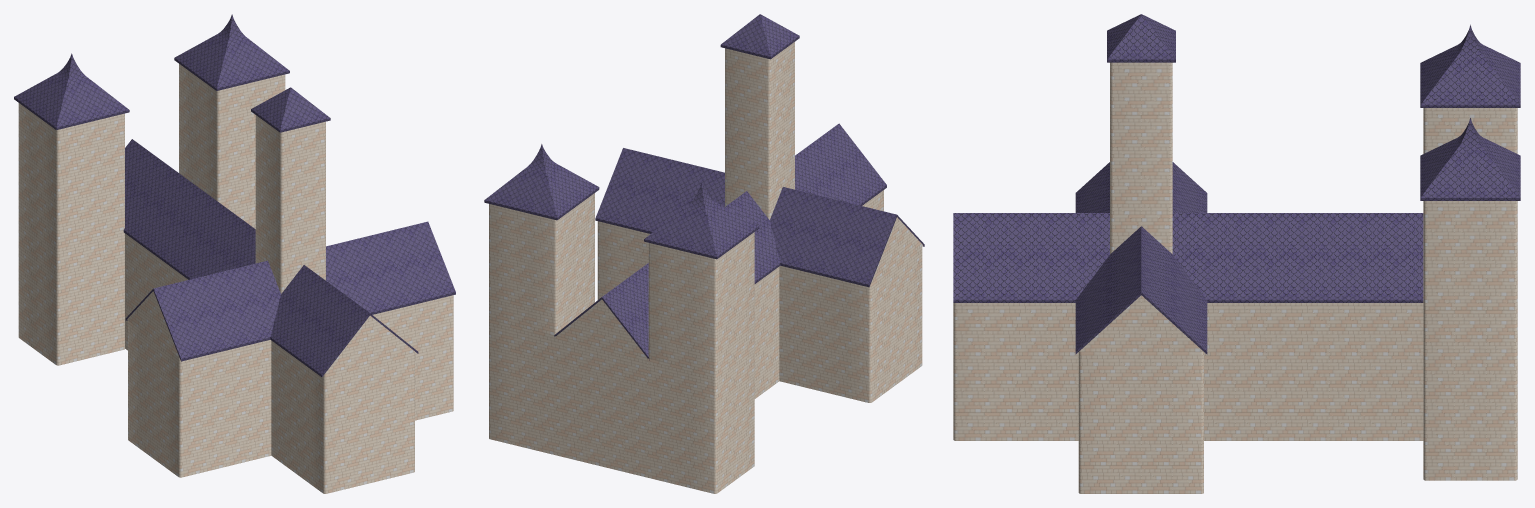
Rendered from Building_Cathedral_Full.fbx.
3 renders of one model, left to right at view 1: azimuth 30°, elevation 25°; view 2: azimuth 150°, elevation 25°; view 3: azimuth 270°, elevation 25°, orthographic. The views are drawn at different scales.
Parts seen in each view (by area): view 1: Wall_Normal_308; view 2: Wall_Normal_308; view 3: Wall_Normal_308.
Boxes of the visible parts, x1,y1,x2,y2 form: Wall_Normal_308: (14,14,455,493); Wall_Normal_308: (484,14,924,493); Wall_Normal_308: (953,14,1520,493).
Bounding box in the file's own units: 2400 × 2820 × 3620.
